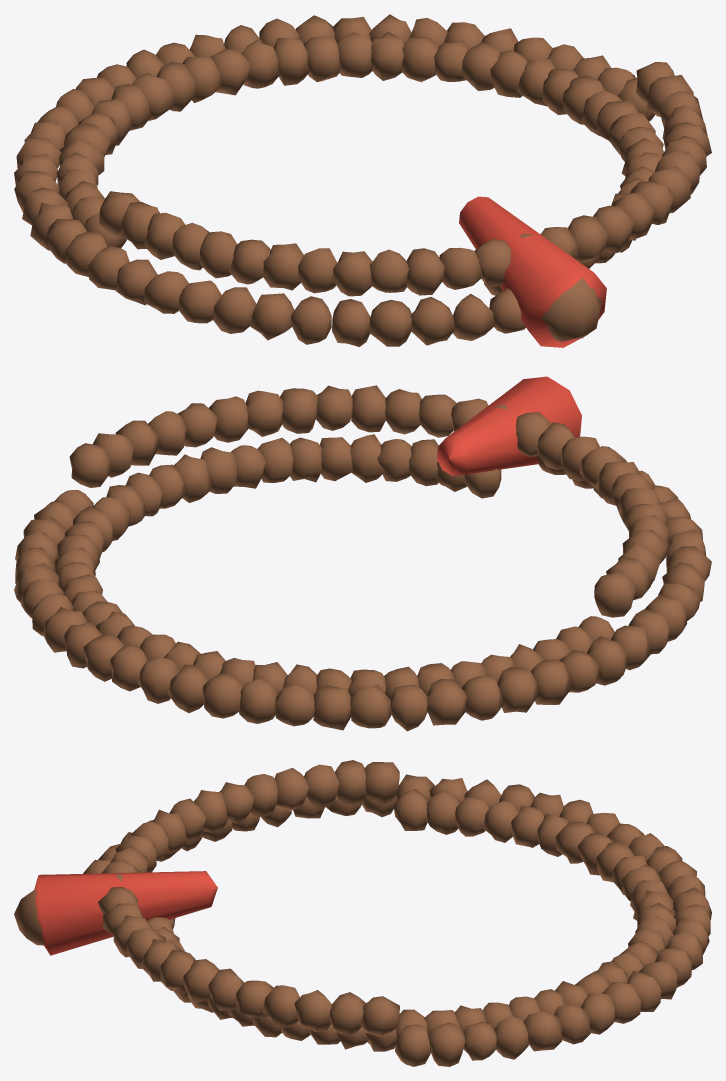
The model's file is mala.glb.
3 views of the same model, one above another, from view 1: azimuth 30°, elevation 25°; view 2: azimuth 150°, elevation 25°; view 3: azimuth 270°, elevation 25° (orthographic). The views are drawn at different scales.
Visible parts, largest first — view 1: mala; view 2: mala; view 3: mala.
Boxes of the visible parts, <box> form: mala: <box>14,14,711,347</box>; mala: <box>14,376,711,731</box>; mala: <box>14,760,711,1066</box>.
Size of the model in its own units: 0.1366 by 0.0191 by 0.1507.
